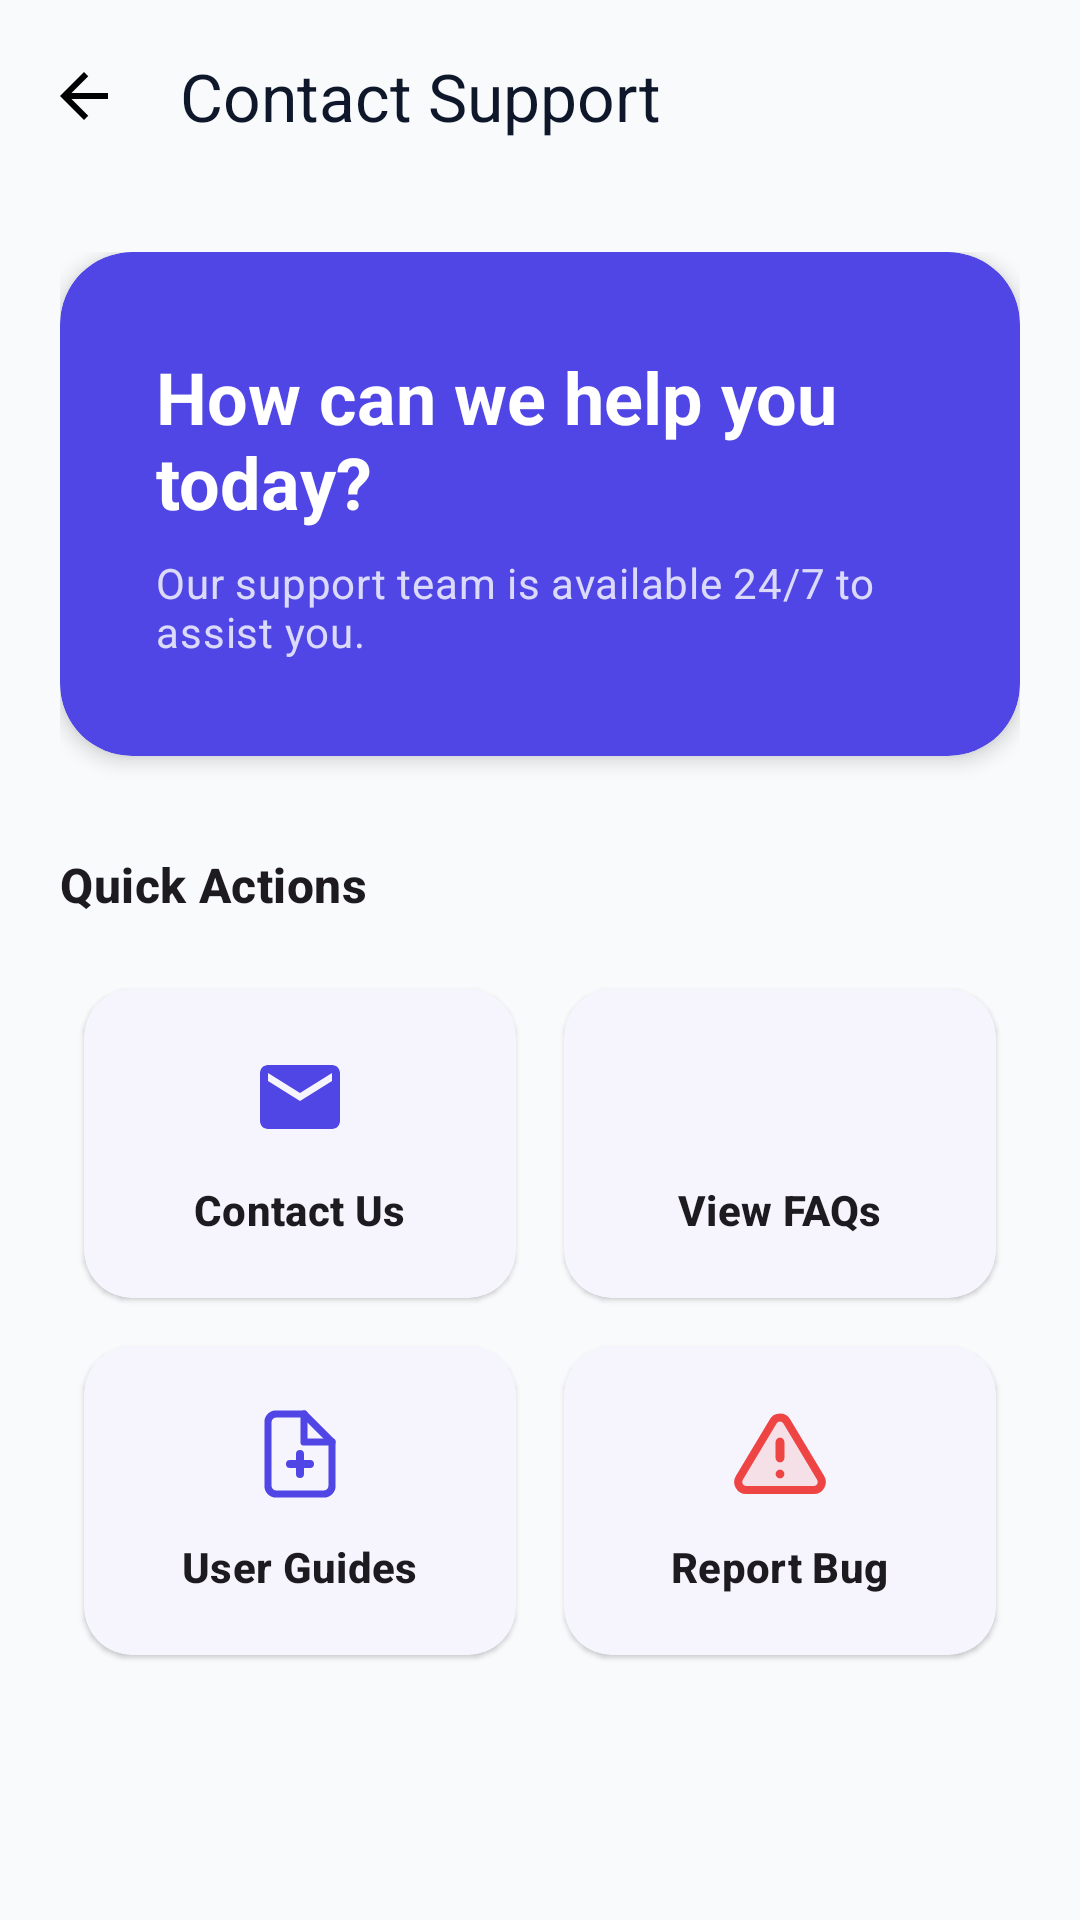

Where to tap for icons on this 1080w x 1920h app screen, as (x,y):
document: (300,1454)
mail: (300,1097)
warning: (780,1453)
